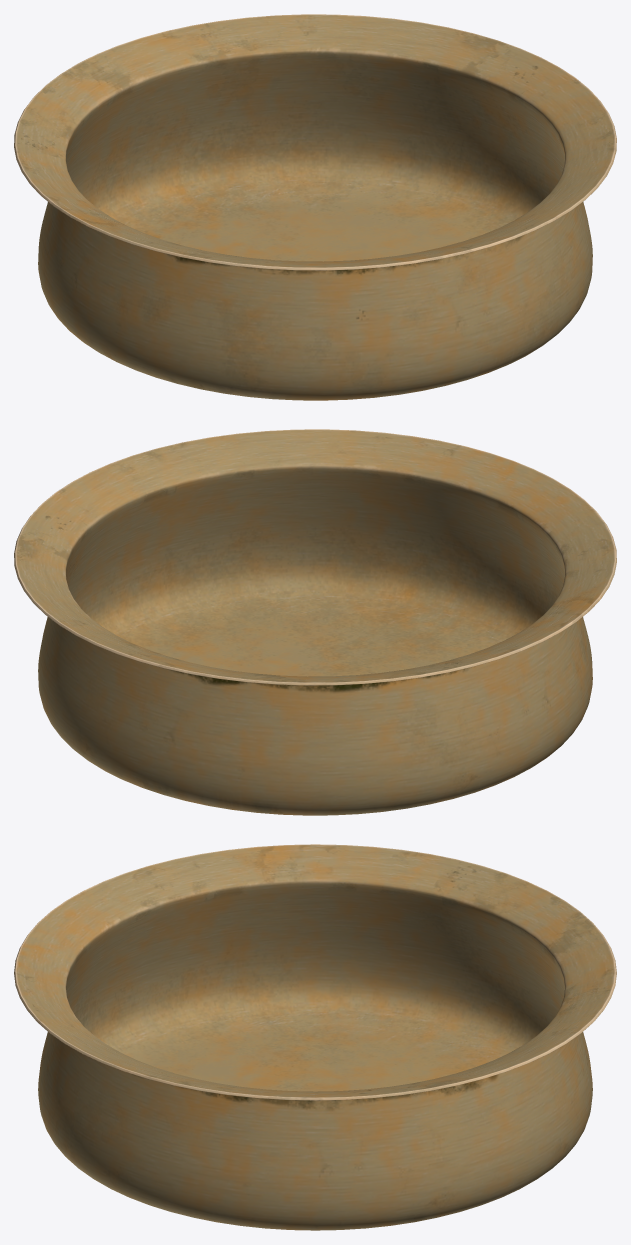
Rendered from SM_Washbasin.fbx.
3 views of the same model, one above another, from view 1: azimuth 30°, elevation 25°; view 2: azimuth 150°, elevation 25°; view 3: azimuth 270°, elevation 25° (orthographic).
Parts seen in each view (by area): view 1: SM_Washbasin; view 2: SM_Washbasin; view 3: SM_Washbasin.
Part boxes in pixels (left/top/right/bottom): SM_Washbasin: left=14, top=14, right=616, bottom=400; SM_Washbasin: left=14, top=429, right=616, bottom=815; SM_Washbasin: left=14, top=844, right=616, bottom=1230.
Bounding box in the file's own units: 35.66 × 10.23 × 35.66.
1 material, 1 textured.
